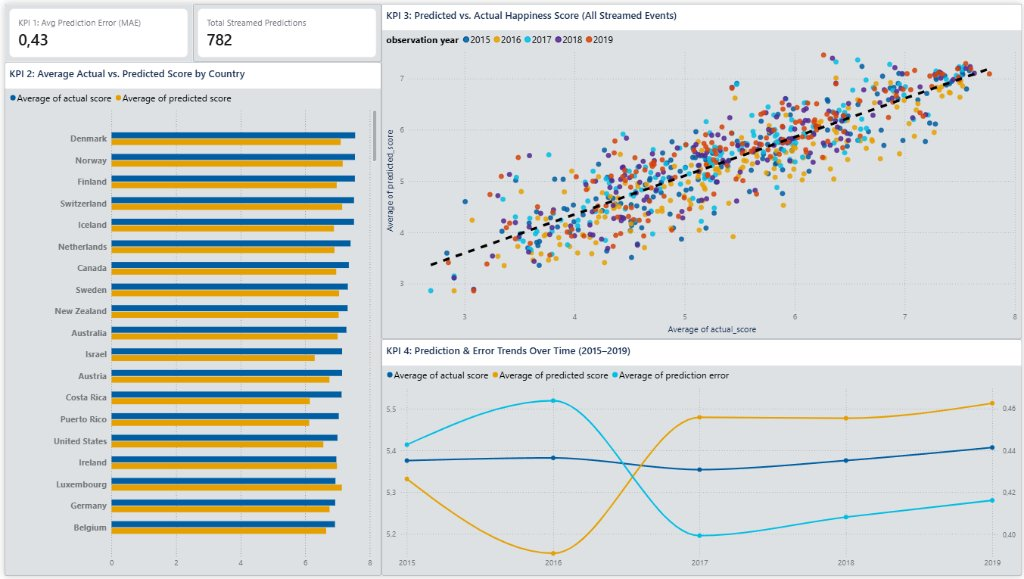

The dashboard page shown, as its layout file describes it:
{"tool":"powerbi","page":{"name":"Page 1","canvas":[1920,1080],"ordinal":0},"visuals":[{"type":"cardVisual","fields":{"Data":["Avg(fact_predictions.prediction_error)"]},"box":[0,0,355.7,110],"z":0},{"type":"cardVisual","fields":{"Data":["CountNonNull(fact_predictions.prediction_id)"]},"box":[355.7,0,355.7,110],"z":1000},{"type":"clusteredBarChart","title":"KPI 2: Average Actual vs. Predicted Score by Country","fields":{"Category":["dim_country.country_name"],"Y":["Avg(fact_predictions.actual_score)","Avg(fact_predictions.predicted_score)"]},"box":[0,110,711.4,970],"z":2000},{"type":"scatterChart","title":"KPI 3: Predicted vs. Actual Happiness Score (All Streamed Events)","fields":{"Category":["fact_predictions.prediction_id"],"Series":["dim_date.observation_year"],"X":["Avg(fact_predictions.actual_score)"],"Y":["Avg(fact_predictions.predicted_score)"]},"box":[711.4,0,1208.6,632.9],"z":3000},{"type":"lineChart","title":"KPI 4: Prediction & Error Trends Over Time (2015–2019)","fields":{"Category":["dim_date.observation_year"],"Y":["Avg(fact_predictions.actual_score)","Avg(fact_predictions.predicted_score)"],"Y2":["Avg(fact_predictions.prediction_error)"]},"box":[711,633,1209,447],"z":4000}]}

Visuals, with their boxes in screenshot pixels (x1, y1, x2, y2), scaled from the page's 1920x1080 canvas onto the 1024x579 screenshot:
cardVisual - Avg(fact_predictions.prediction_error): locate(0, 0, 190, 59)
cardVisual - CountNonNull(fact_predictions.prediction_id): locate(190, 0, 379, 59)
"KPI 2: Average Actual vs. Predicted Score by Country" clusteredBarChart: locate(0, 59, 379, 578)
"KPI 3: Predicted vs. Actual Happiness Score (All Streamed Events)" scatterChart: locate(379, 0, 1023, 339)
"KPI 4: Prediction & Error Trends Over Time (2015–2019)" lineChart: locate(379, 339, 1023, 578)
